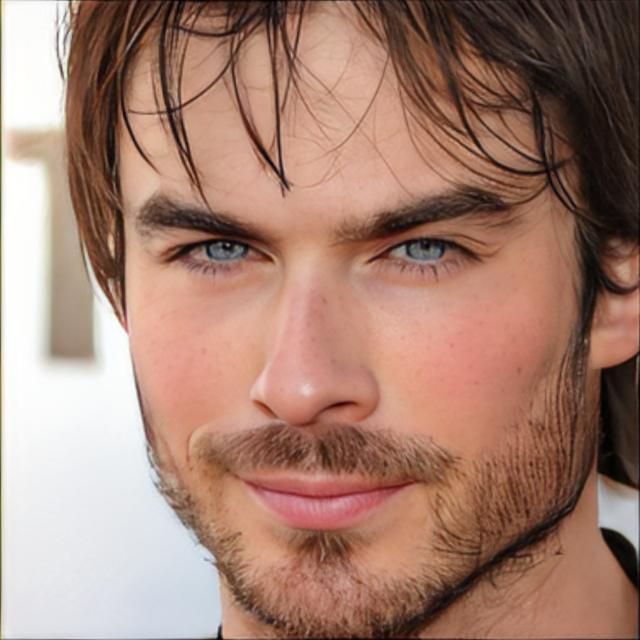content: (123, 0, 586, 640)
